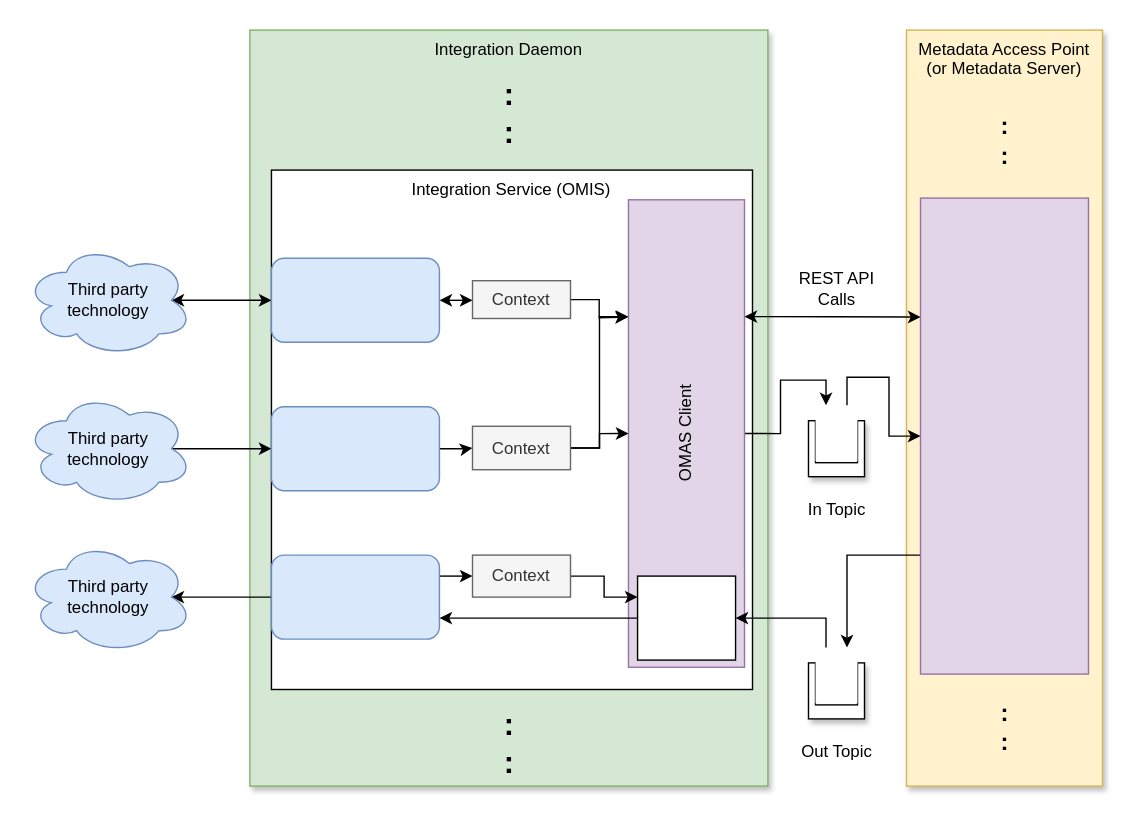
Image size: 1135x820. Some labels were removed from this diagram. The shapes that lost their labels are listed below. From the top down, each one's centre as x and y in pixels, then its label:
the point at 354,299: Polling connector
the point at 354,448: Inbound listening connector
the point at 1003,435: OMAS
the point at 354,596: Outbound listening connector
the point at 686,617: OMAS Client-side OutTopic Connector
